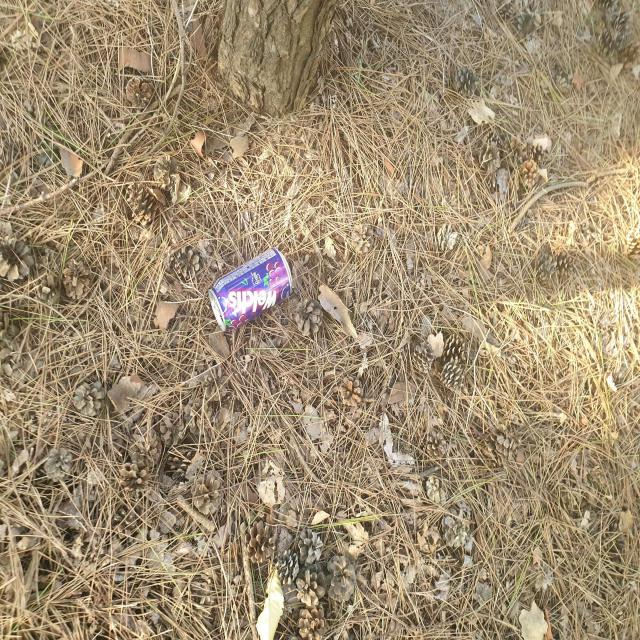can: (208, 248, 292, 330)
